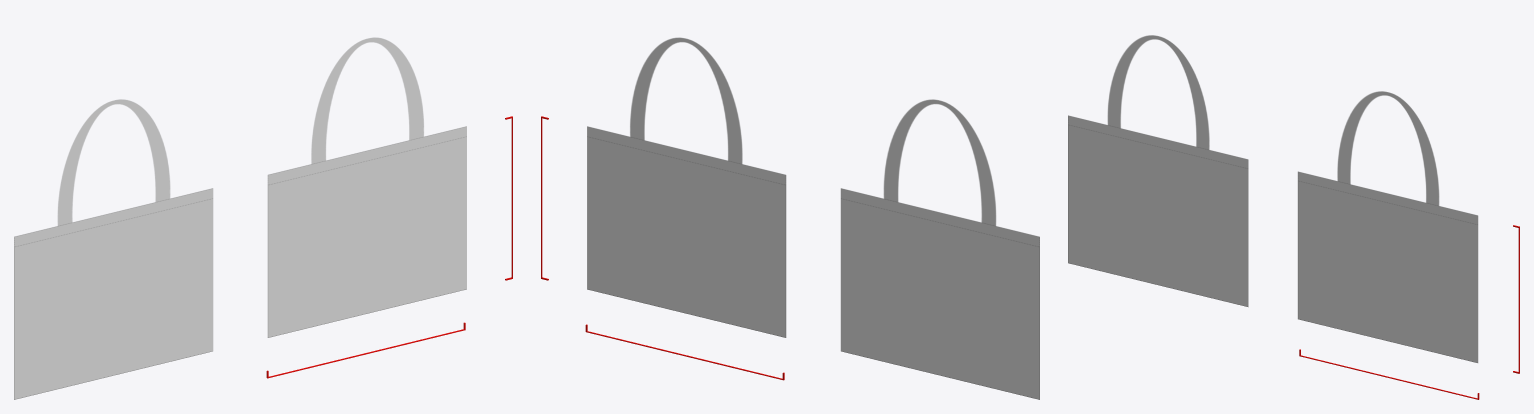
Rendered from 帆布袋-无底无侧.glb.
3 views of the same model, side by side, from view 1: azimuth 30°, elevation 25°; view 2: azimuth 150°, elevation 25°; view 3: azimuth 330°, elevation 25° (orthographic). The views are drawn at different scales.
Visible parts, largest first — view 1: bag, w; view 2: bag, w; view 3: bag.
Boxes of the visible parts, x1,y1,x2,y2 form: bag: (14,37,466,399); w: (266,322,465,378); bag: (587,37,1039,399); w: (585,324,784,380); bag: (1068,35,1478,362).
Bounding box in the file's own units: 0.749 × 0.4543 × 0.00545.
2 materials, 1 textured.
